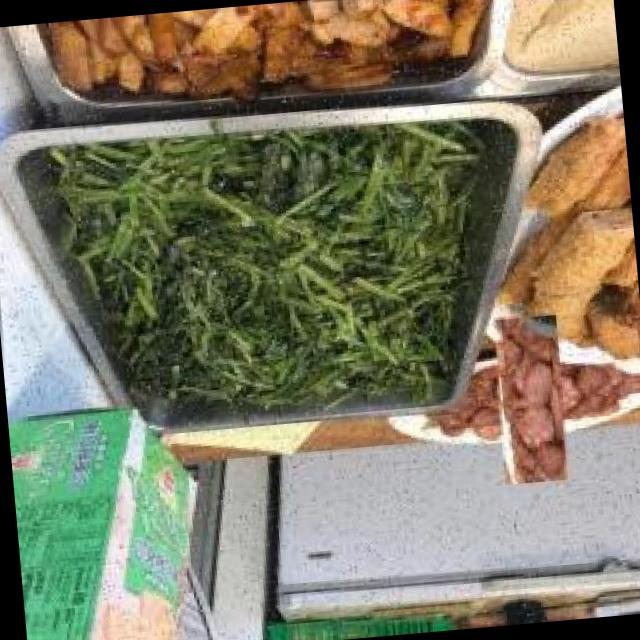chinese_sausage: (468, 334, 596, 462)
water_spinach: (89, 117, 452, 401)
